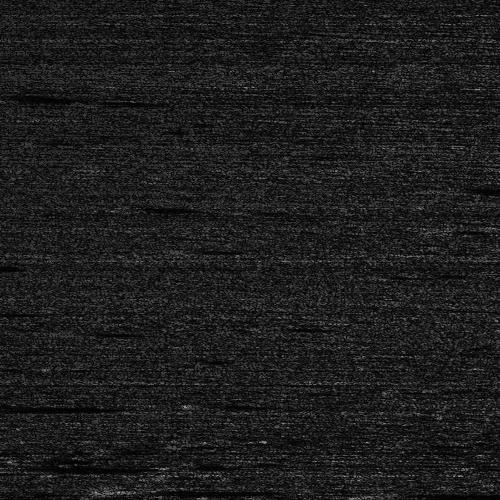object: (99, 486, 192, 493), (0, 460, 57, 471), (348, 492, 421, 499), (423, 185, 476, 190), (66, 99, 107, 104), (0, 93, 25, 100), (0, 403, 14, 410)
shadow: (10, 460, 146, 471), (146, 486, 272, 493), (0, 403, 104, 410), (385, 492, 473, 499), (0, 93, 53, 100), (87, 99, 156, 104), (449, 185, 500, 190)
